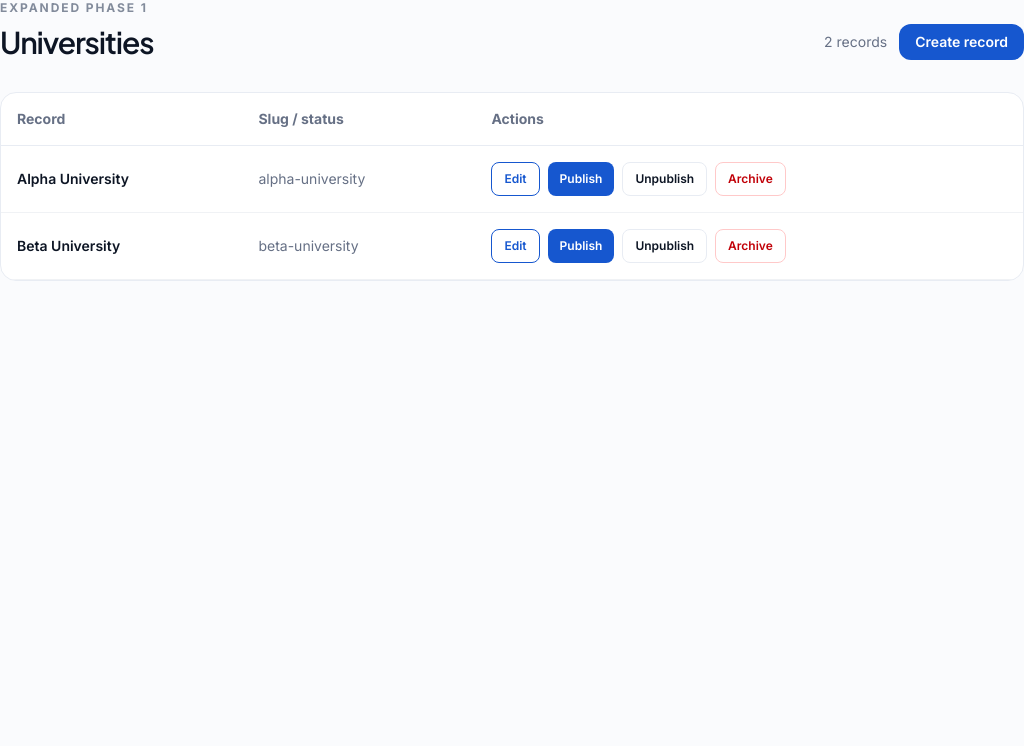
Test: Phase1Manager edit targeting › prepopulates the record’s own values, not just its name
Click the button "Edit" in the row of "Beta University" at (516, 246), box [492,229,540,263]
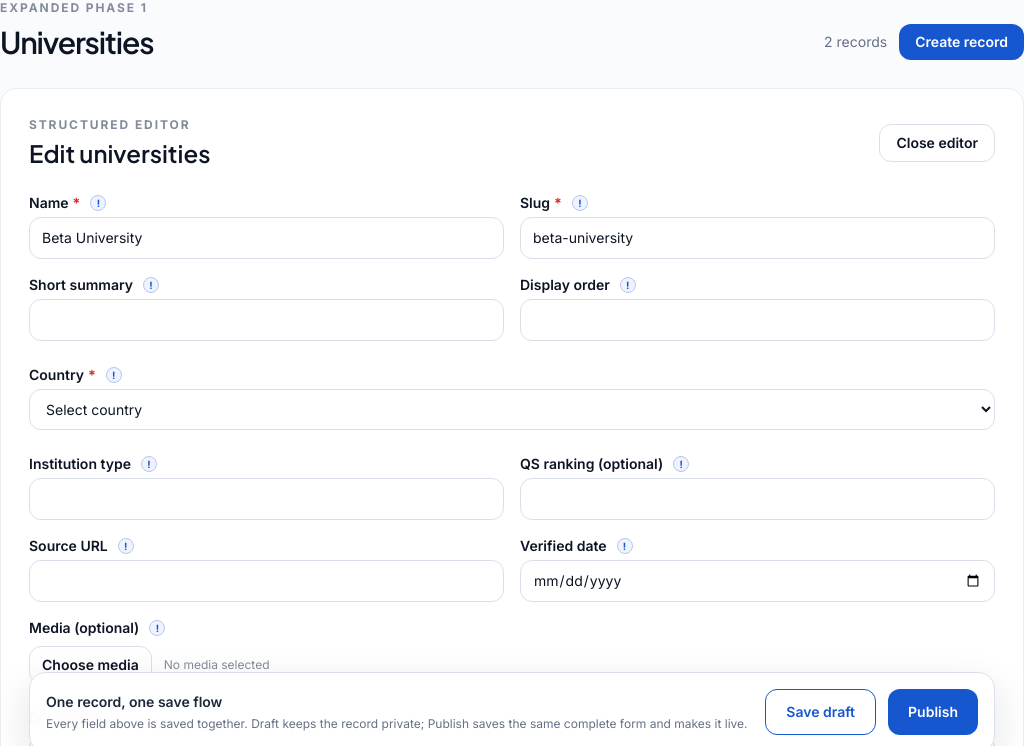
Now the field showing "beta-university" is shown, box [520,217,995,259]
